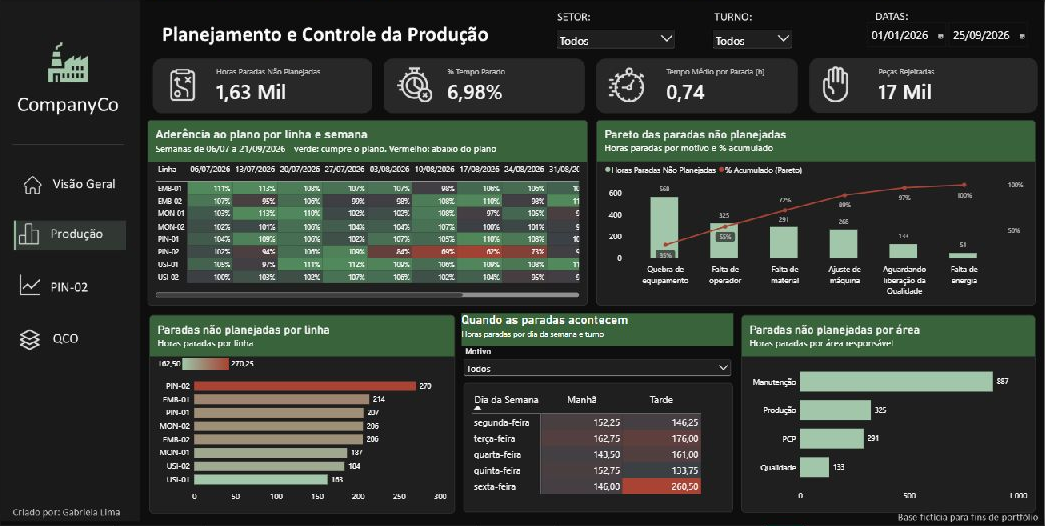

The dashboard page shown, as its layout file describes it:
{"tool":"powerbi","page":{"name":"PCP e Manutenção","canvas":[2140,1080],"ordinal":2},"visuals":[{"type":"slicer","fields":{"Values":["Turno.Turno"]},"box":[1456,56,172,70],"z":0},{"type":"slicer","fields":{"Values":["LinhaSetor.Setor"]},"box":[1135,55,252.5,57.5],"z":1000},{"type":"slicer","fields":{"Values":["Calendario.Datas"]},"box":[1770,42,370,86],"z":2000},{"type":"cardVisual","fields":{"Data":["Paradas.Horas Paradas Não Planejadas"]},"box":[426.7,120,276.7,110],"z":3000},{"type":"cardVisual","fields":{"Data":["Calendario.% Tempo Parado NP"]},"box":[900,120,448,110],"z":4000},{"type":"cardVisual","fields":{"Data":["Calendario.Tempo Médio por Parada (h)"]},"box":[1348.3,120,260,110],"z":5000},{"type":"cardVisual","fields":{"Data":["Calendario.Qtd Rejeitada"]},"box":[1783.3,120,250,110],"z":6000},{"type":"pivotTable","title":"Aderência ao plano por linha e semana","fields":{"Columns":["Calendario.Semana_Inicio"],"Rows":["LinhaSetor.Linha"],"Values":["Calendario.Aderência ao Plano"]},"box":[302,246,902,380],"z":7000},{"type":"clusteredBarChart","title":"Paradas não planejadas por área","fields":{"Category":["Motivo.Area_Responsavel"],"Y":["Paradas.Horas Paradas Não Planejadas"]},"box":[1520,645,602.5,405],"z":8000},{"type":"clusteredBarChart","title":"Paradas não planejadas por linha","fields":{"Category":["LinhaSetor.Linha"],"Y":["Paradas.Horas Paradas Não Planejadas"]},"box":[305,645,626,406],"z":9000},{"type":"slicer","title":"Quando as paradas acontecem","fields":{"Values":["Motivo.Motivo"]},"box":[945,642.5,557.5,142.5],"z":10000},{"type":"pivotTable","fields":{"Columns":["Turno.Turno"],"Rows":["Calendario.Dia da Semana"],"Values":["Paradas.Horas Paradas Não Planejadas"]},"box":[950,785,552.5,265],"z":11000},{"type":"lineStackedColumnComboChart","title":"Pareto das paradas não planejadas","fields":{"Category":["Motivo.Motivo"],"Y":["Paradas.Horas Paradas Não Planejadas"],"Y2":["Calendario.% Acumulado (Pareto)"]},"box":[1222.5,245,900,380],"z":12000},{"type":"actionButton","box":[0,436,282,104],"z":13000},{"type":"actionButton","box":[0,540,282,104],"z":14000},{"type":"actionButton","box":[0,332,282,104],"z":15000},{"type":"actionButton","box":[0,645,282,104],"z":15001}]}

Visuals, with their boxes on the page's 2140x1080 design canvas (x1, y1, x2, y2). These are canvas units, not pixel positions in the 1045x526 screenshot, which may show the page scaled, cropped or inside an application window:
slicer - Turno.Turno: x1=1456 y1=56 x2=1628 y2=126
slicer - LinhaSetor.Setor: x1=1135 y1=55 x2=1388 y2=112
slicer - Calendario.Datas: x1=1770 y1=42 x2=2140 y2=128
cardVisual - Paradas.Horas Paradas Não Planejadas: x1=427 y1=120 x2=703 y2=230
cardVisual - Calendario.% Tempo Parado NP: x1=900 y1=120 x2=1348 y2=230
cardVisual - Calendario.Tempo Médio por Parada (h): x1=1348 y1=120 x2=1608 y2=230
cardVisual - Calendario.Qtd Rejeitada: x1=1783 y1=120 x2=2033 y2=230
"Aderência ao plano por linha e semana" pivotTable: x1=302 y1=246 x2=1204 y2=626
"Paradas não planejadas por área" clusteredBarChart: x1=1520 y1=645 x2=2122 y2=1050
"Paradas não planejadas por linha" clusteredBarChart: x1=305 y1=645 x2=931 y2=1051
"Quando as paradas acontecem" slicer: x1=945 y1=642 x2=1502 y2=785
pivotTable - Turno.Turno x Calendario.Dia da Semana: x1=950 y1=785 x2=1502 y2=1050
"Pareto das paradas não planejadas" lineStackedColumnComboChart: x1=1222 y1=245 x2=2122 y2=625
actionButton: x1=0 y1=436 x2=282 y2=540
actionButton: x1=0 y1=540 x2=282 y2=644
actionButton: x1=0 y1=332 x2=282 y2=436
actionButton: x1=0 y1=645 x2=282 y2=749
